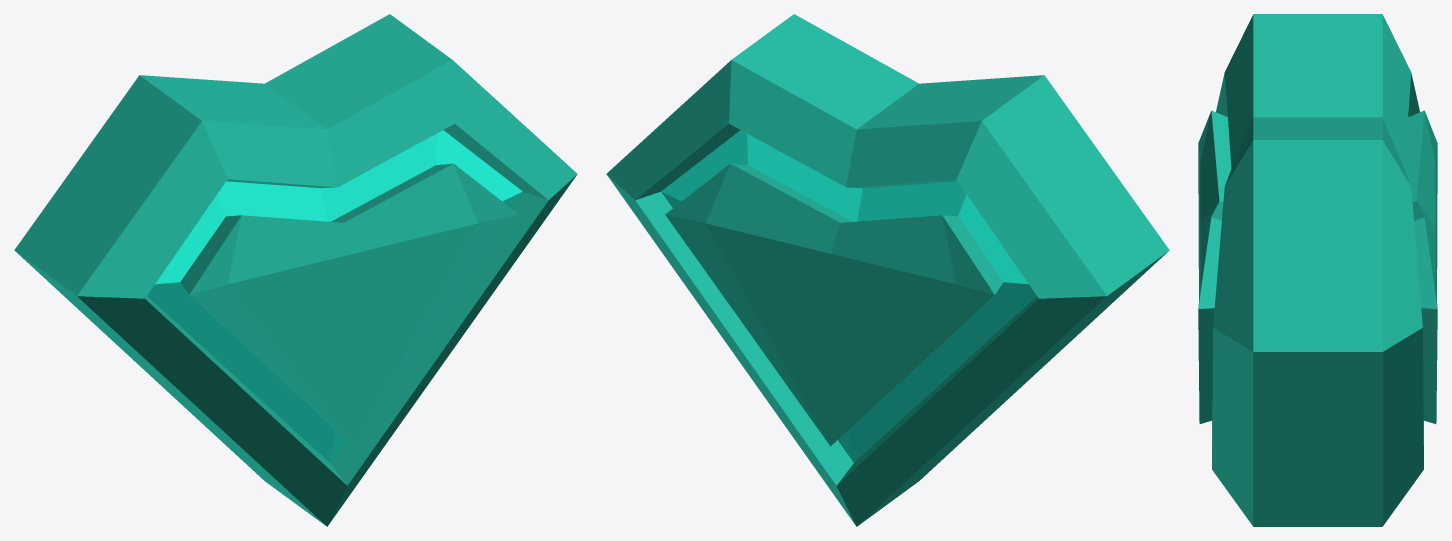
File: Heart.fbx
3 renders of one model, left to right at view 1: azimuth 30°, elevation 25°; view 2: azimuth 150°, elevation 25°; view 3: azimuth 270°, elevation 25°, orthographic. The views are drawn at different scales.
Parts seen in each view (by area): view 1: Heart; view 2: Heart; view 3: Heart.
Part boxes in pixels (x1,y1,x2,y2): Heart: [14, 14, 577, 526]; Heart: [606, 14, 1169, 526]; Heart: [1198, 14, 1437, 526].
Bounding box in the file's own units: 200 × 167 × 80.34.
